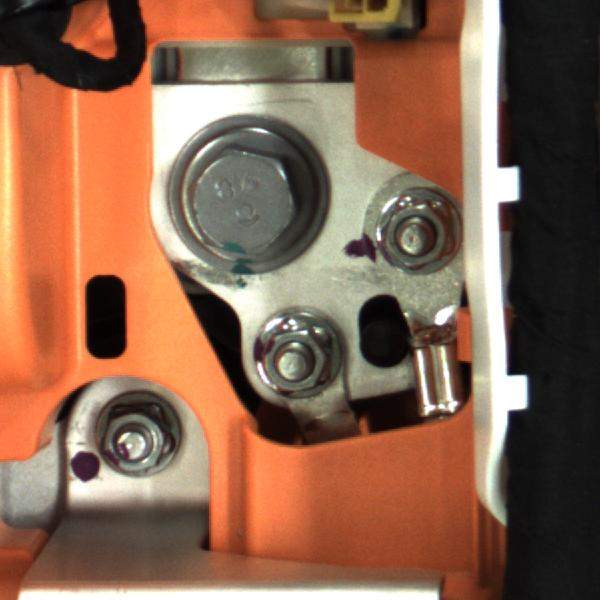nut_b: (162, 122, 342, 281)
screw_s: (364, 186, 461, 283), (253, 318, 352, 407), (97, 397, 197, 481)
